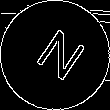N_SW: (24, 23, 86, 87)
